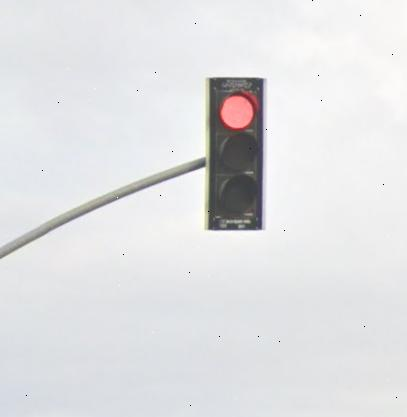redlight: (208, 76, 265, 231)
